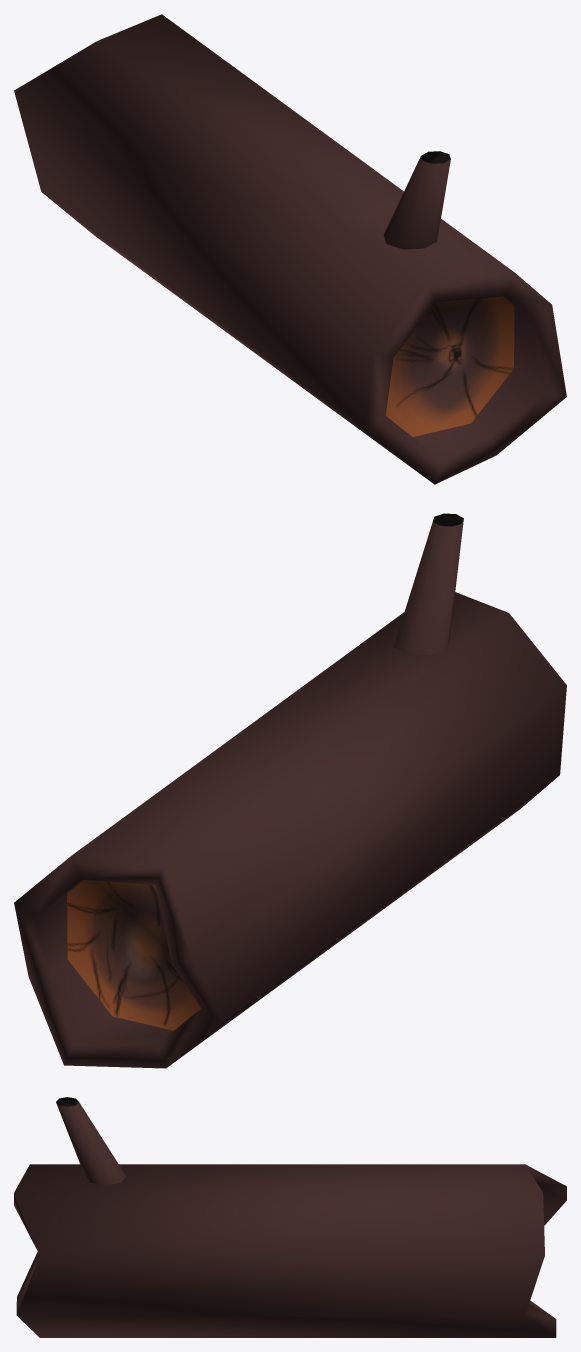
File: SM_Trunk_01.fbx
3 renders of one model, top to bottom at view 1: azimuth 30°, elevation 25°; view 2: azimuth 150°, elevation 25°; view 3: azimuth 270°, elevation 25°, orthographic. The views are drawn at different scales.
Parts seen in each view (by area): view 1: Cilindro.002; view 2: Cilindro.002; view 3: Cilindro.002.
Part boxes in pixels (box(x1,y1,x2,y2)): Cilindro.002: box(14, 14, 566, 484); Cilindro.002: box(14, 513, 566, 1068); Cilindro.002: box(14, 1097, 566, 1337).
Size of the model in its own units: 1.85 by 2.8 by 6.36.
1 material, 1 textured.
